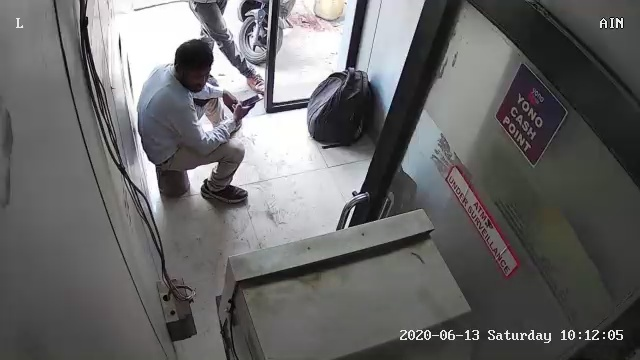open: (115, 3, 377, 142)
